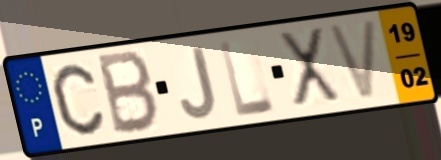B: (95, 48, 161, 138)
C: (49, 61, 107, 137)
J: (177, 44, 219, 122)
L: (216, 36, 279, 120)
V: (324, 15, 380, 104)
X: (275, 24, 345, 109)
